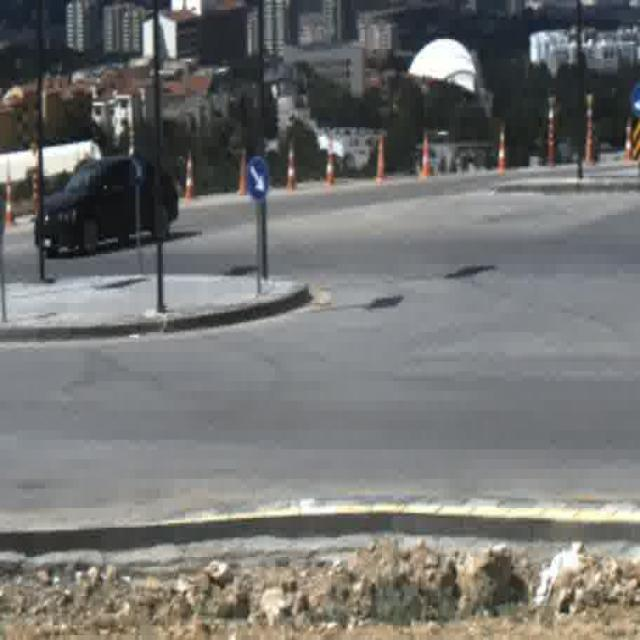Car: (35, 152, 182, 261)
